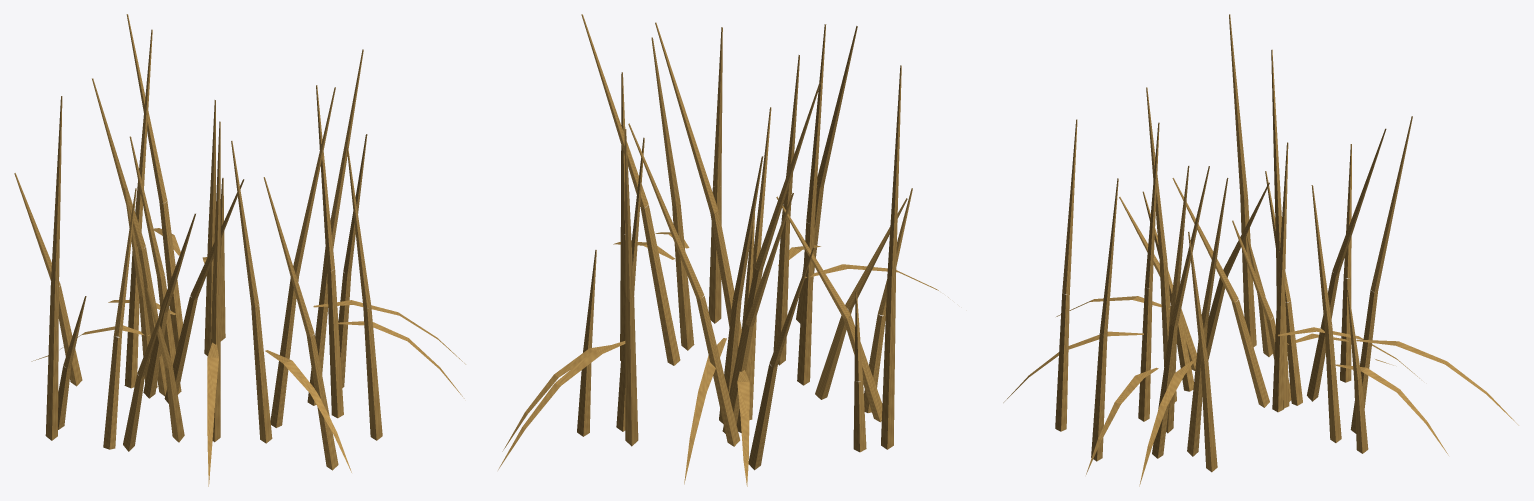
Rendered from Cut_Stubble_A.glb.
The picture shows the model from 3 angles, left to right: view 1: azimuth 30°, elevation 25°; view 2: azimuth 150°, elevation 25°; view 3: azimuth 270°, elevation 25°; orthographic projection. The views are drawn at different scales.
Parts seen in each view (by area): view 1: world; view 2: world; view 3: world.
Part boxes in pixels (left/top/right/bottom): world: left=14, top=14, right=465, bottom=486; world: left=498, top=14, right=948, bottom=486; world: left=1003, top=14, right=1518, bottom=486.
Size of the model in its own units: 0.5333 by 0.4972 by 0.7015.
1 material, 1 textured.
